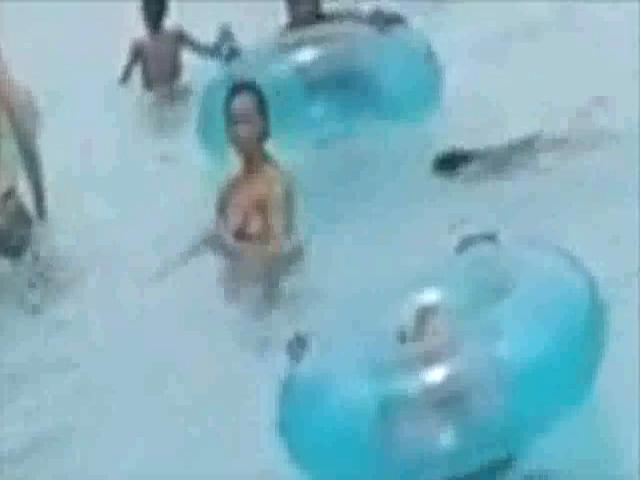drowning: (409, 120, 617, 200)
swimming: (195, 86, 322, 286), (113, 0, 245, 94)
